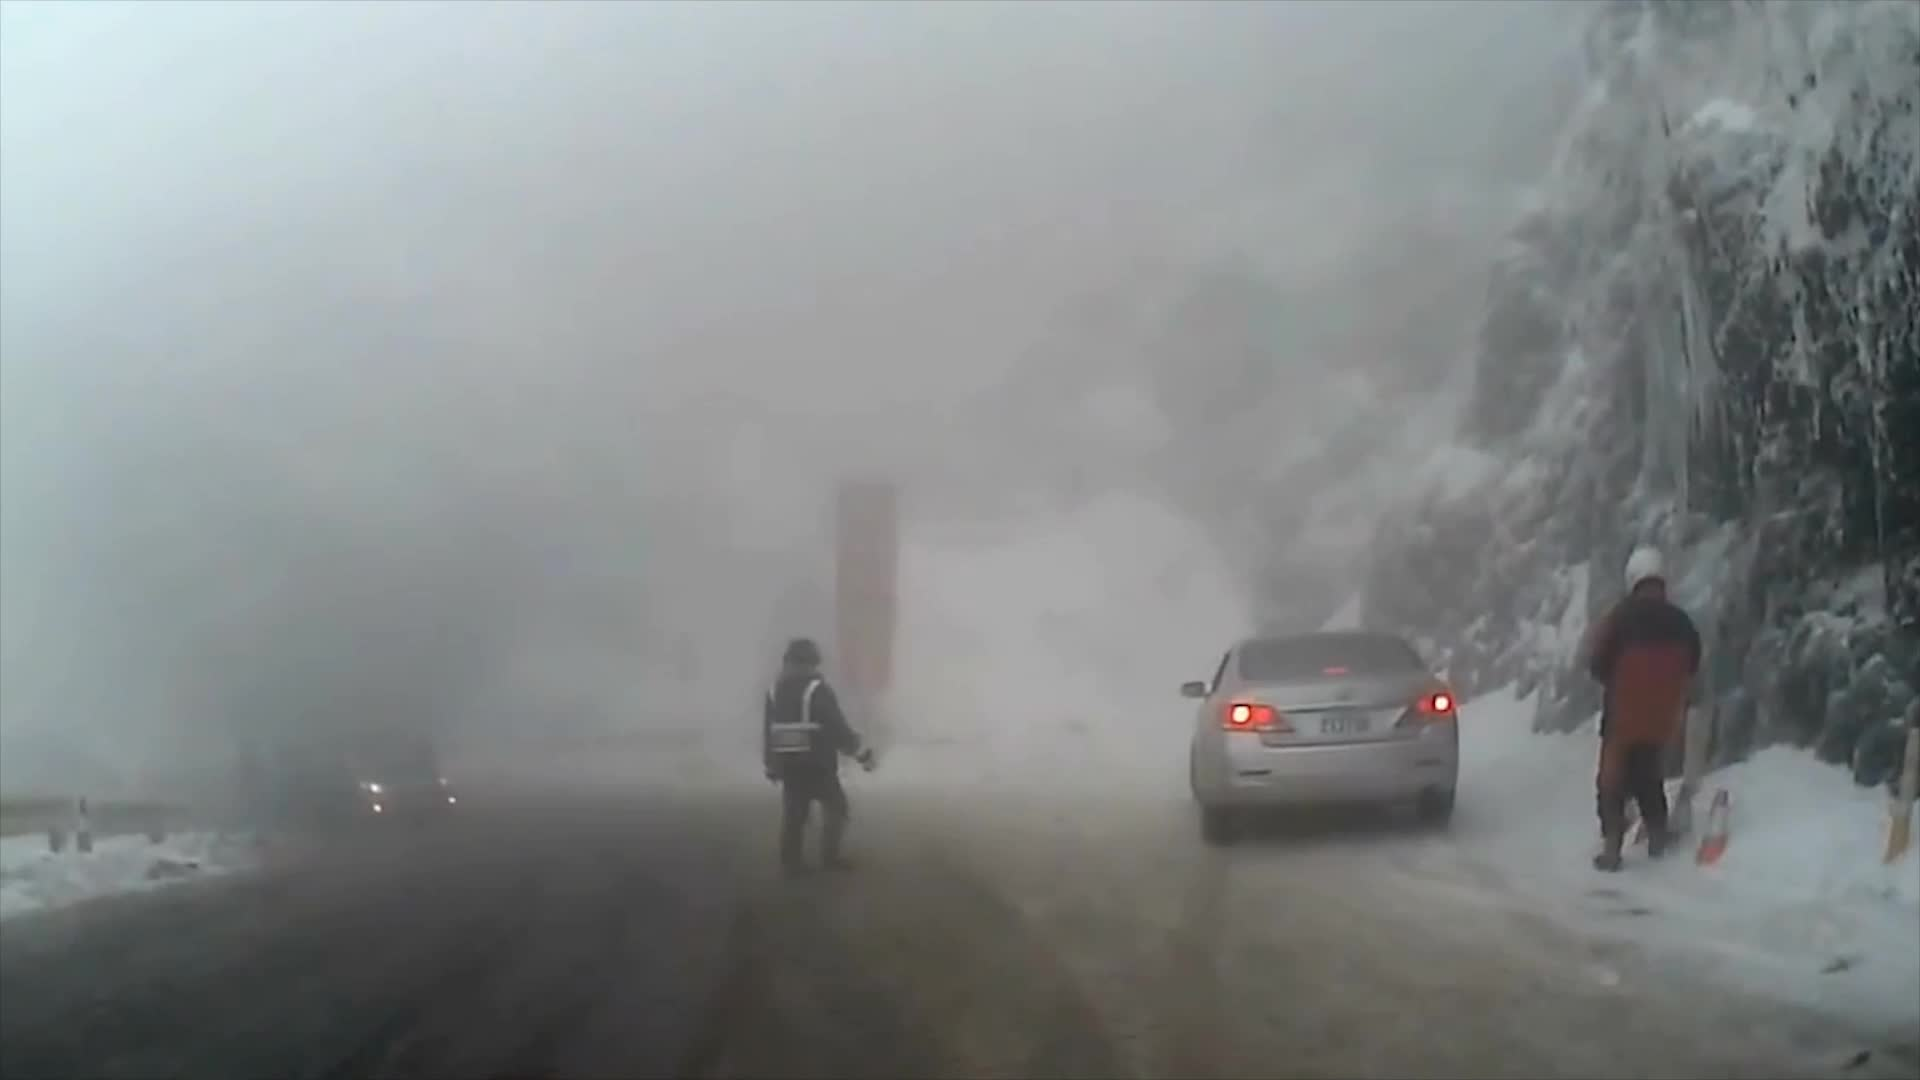pedestrian: (1588, 544, 1704, 879), (764, 643, 876, 879)
vehicle: (1177, 631, 1459, 850)
